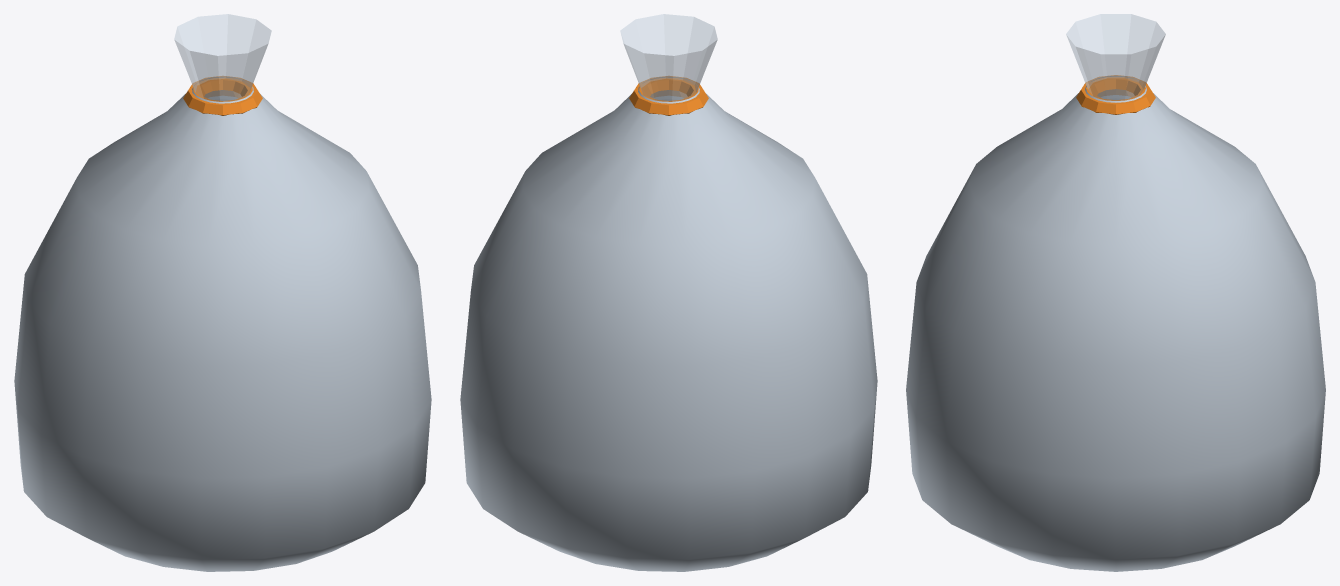
The model's file is bag.glb.
The picture shows the model from 3 angles, left to right: view 1: azimuth 30°, elevation 25°; view 2: azimuth 150°, elevation 25°; view 3: azimuth 270°, elevation 25°; orthographic projection.
Parts seen in each view (by area): view 1: Bag_L1, Bag_Tail, Bag_Knot; view 2: Bag_L1, Bag_Tail, Bag_Knot; view 3: Bag_L1, Bag_Tail, Bag_Knot.
Boxes of the visible parts, x1,y1,x2,y2 form: Bag_L1: (14, 77, 431, 571); Bag_Tail: (174, 14, 271, 101); Bag_Knot: (183, 76, 262, 115); Bag_L1: (460, 77, 877, 571); Bag_Tail: (620, 14, 717, 101); Bag_Knot: (629, 76, 708, 115); Bag_L1: (906, 76, 1325, 571); Bag_Tail: (1066, 14, 1165, 100); Bag_Knot: (1076, 75, 1155, 114).
Bounding box in the file's own units: 0.84 × 1.07 × 0.84.
